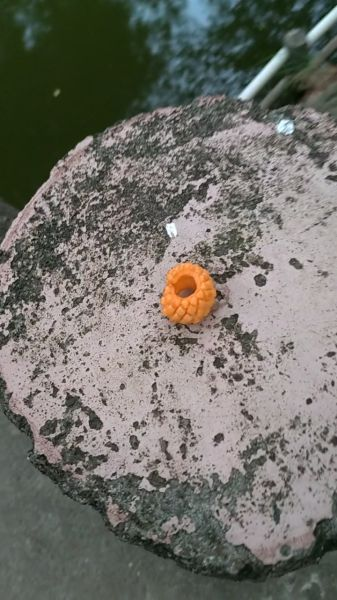eggs: (150, 260, 223, 324)
